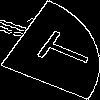T: (24, 25, 98, 74)
